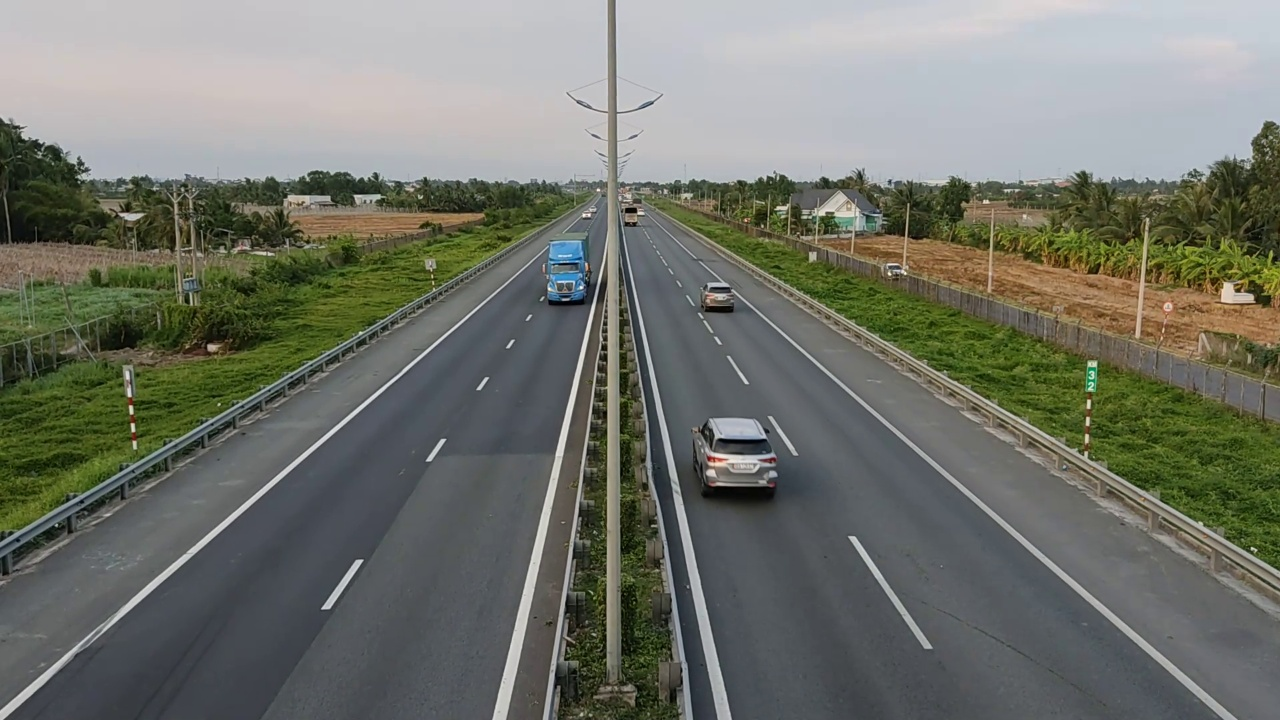car: (691, 416, 780, 497), (699, 281, 735, 311)
truck: (538, 229, 594, 309)
